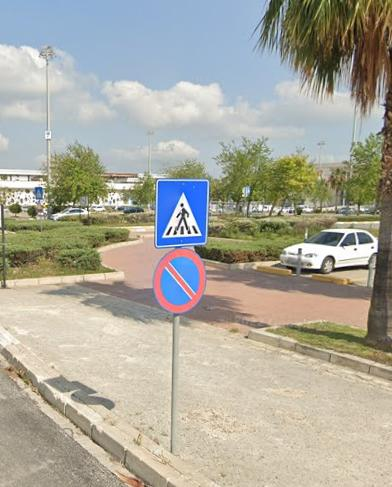nopark: (157, 251, 207, 314)
